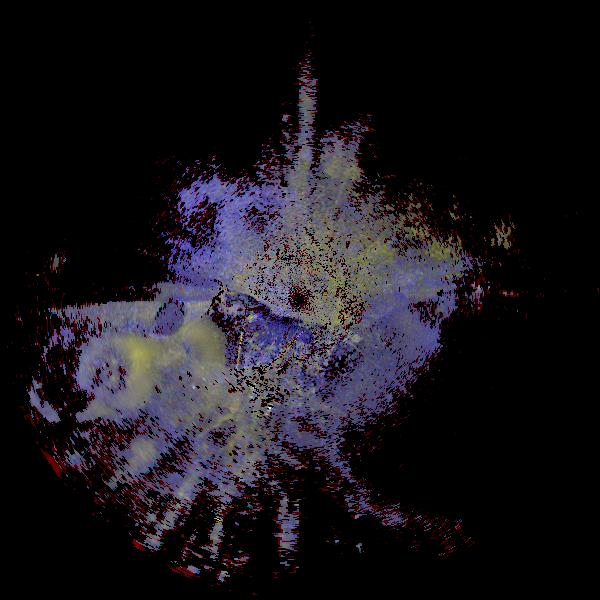roost: (116, 305, 233, 422), (212, 175, 323, 286), (69, 327, 162, 420), (28, 347, 118, 437), (97, 418, 157, 478)
